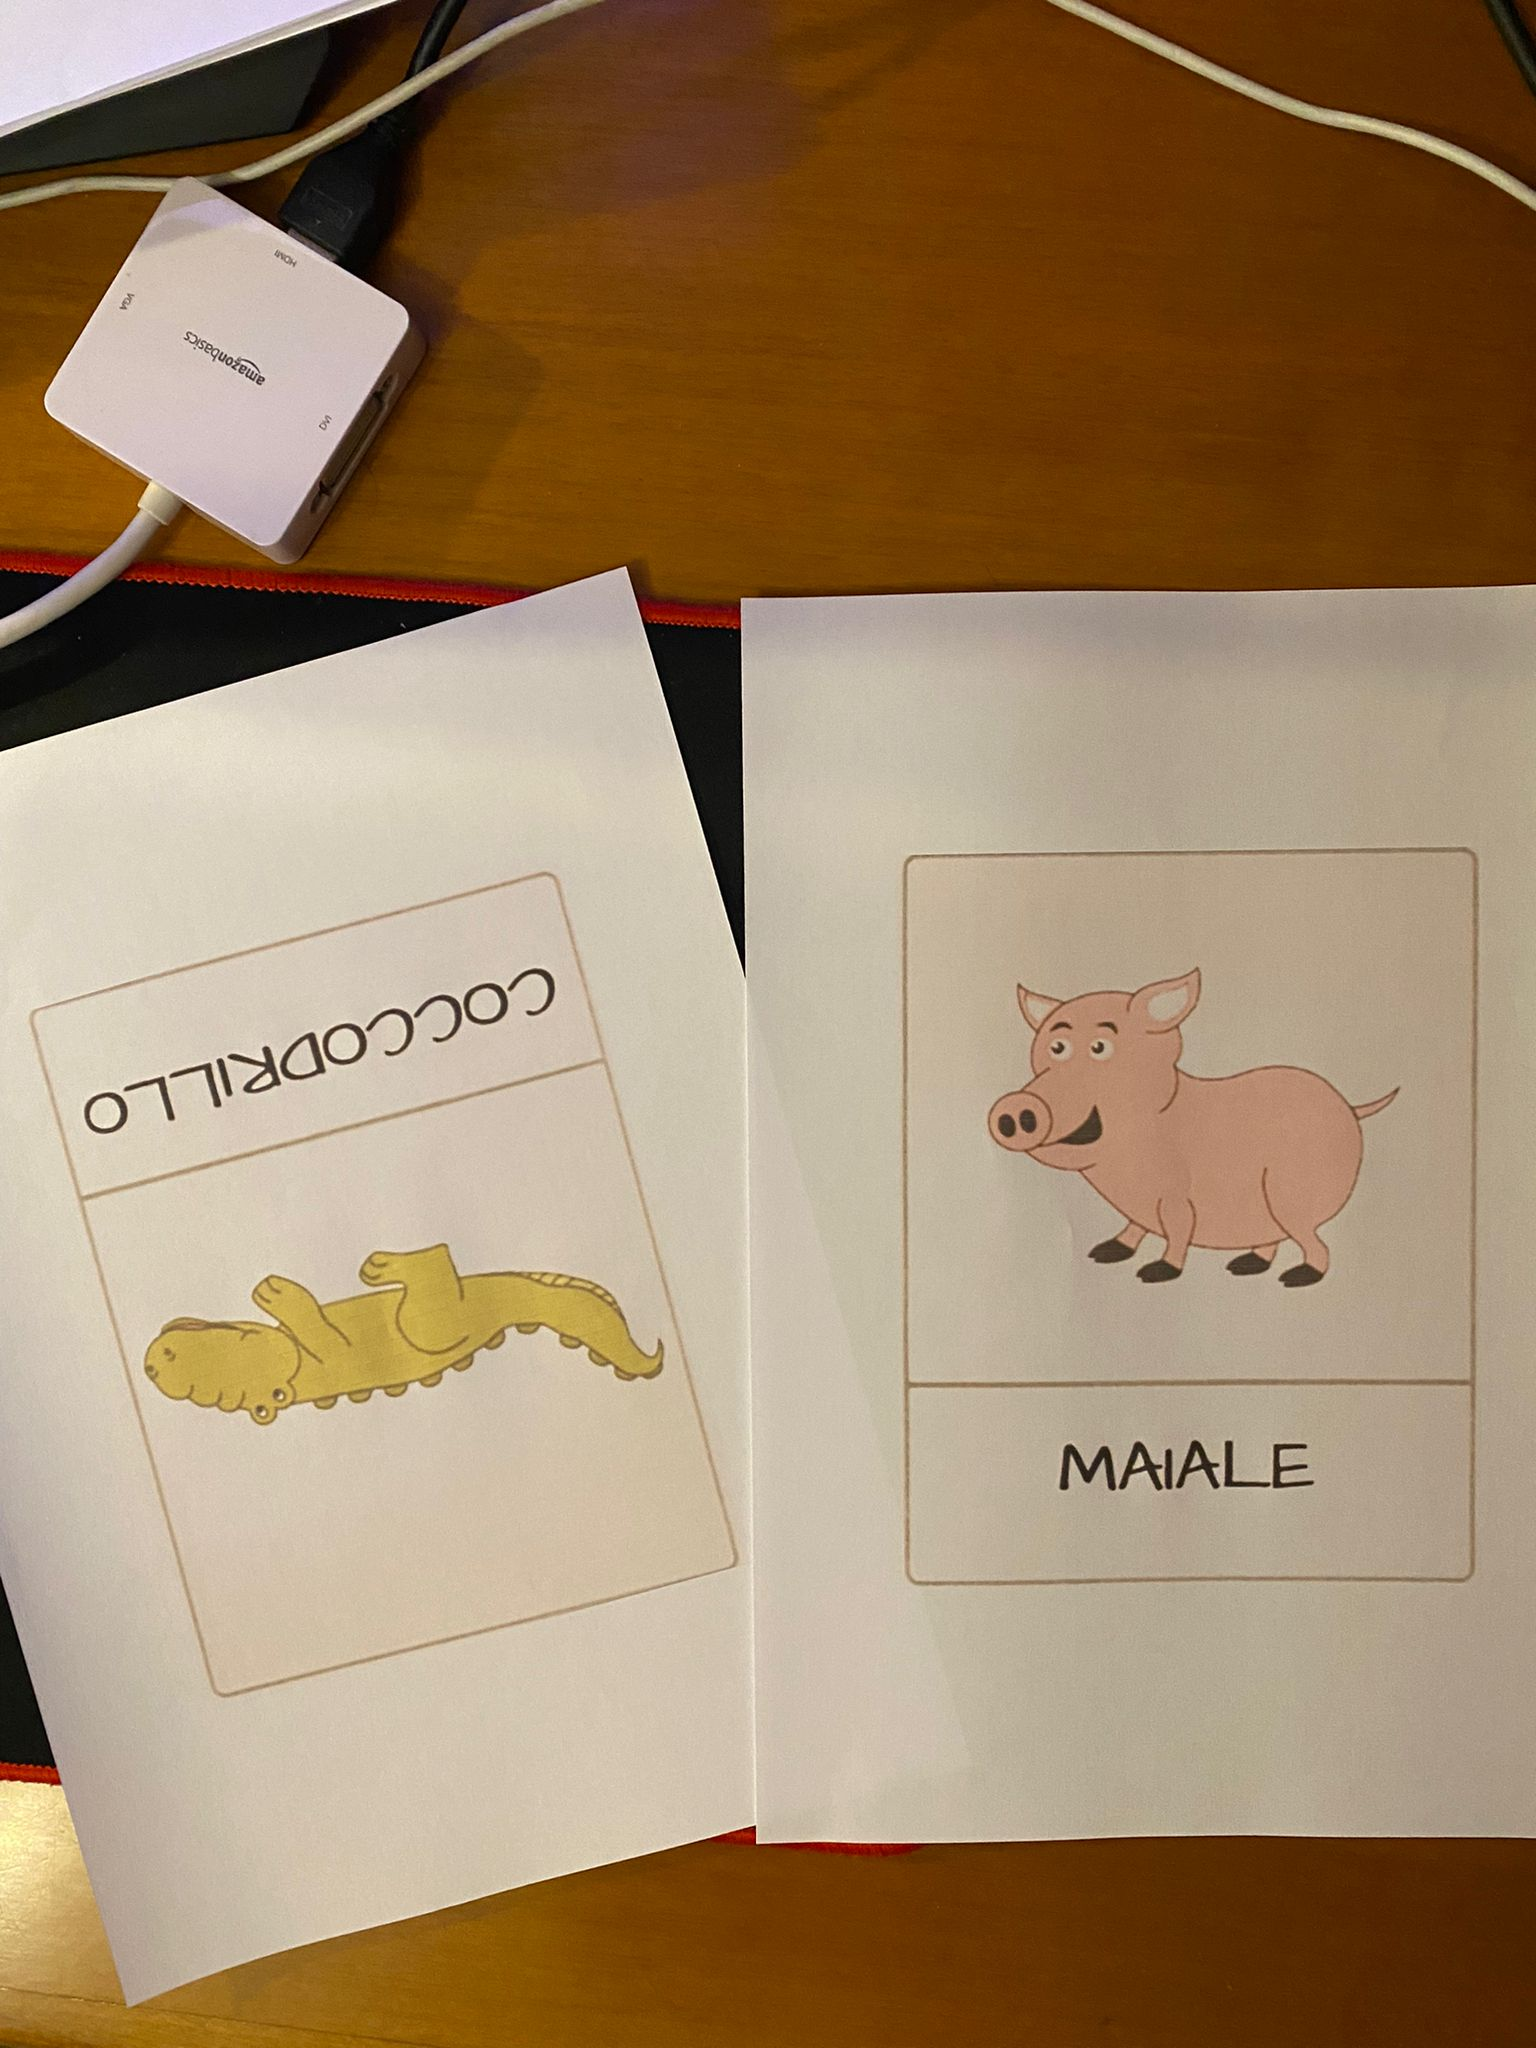coccodrillo: (44, 975, 705, 1632)
maiale: (908, 862, 1471, 1560)
